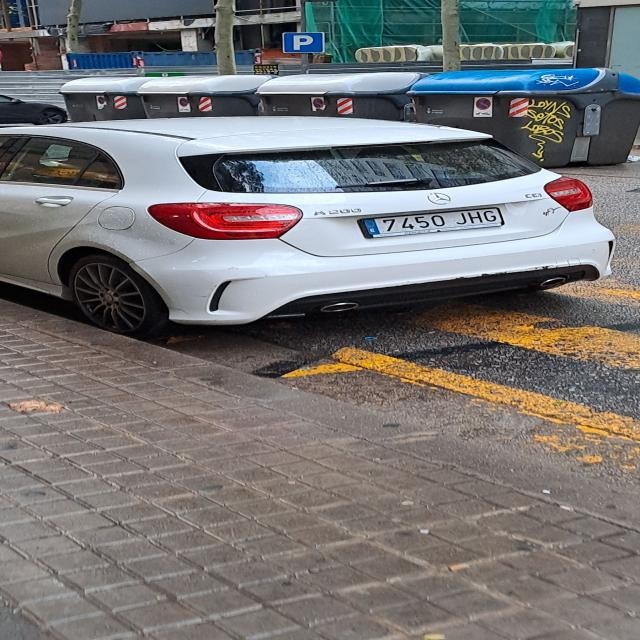license_plate-34Td: (361, 207, 505, 238)
